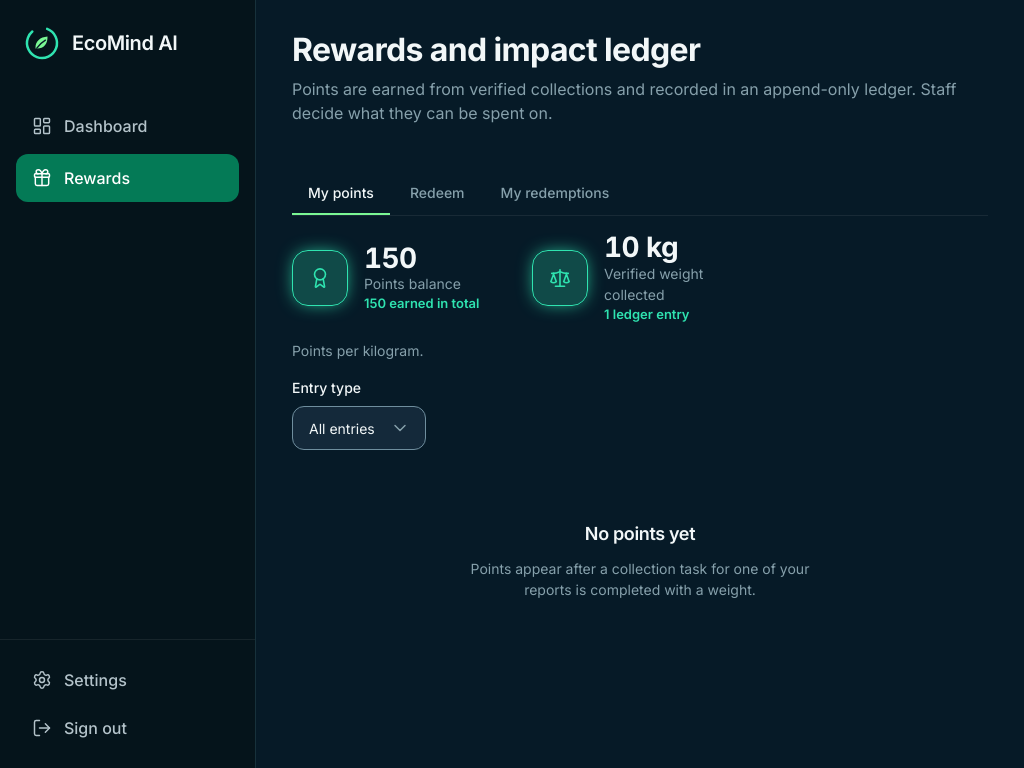
rewards catalogue (citizen) › redeems with a request id, then shows the claim code
What coordinates should you click on to do the following:
click the tab "Redeem"
I would click on:
 (437, 193)
Its box is [394,171,480,215].
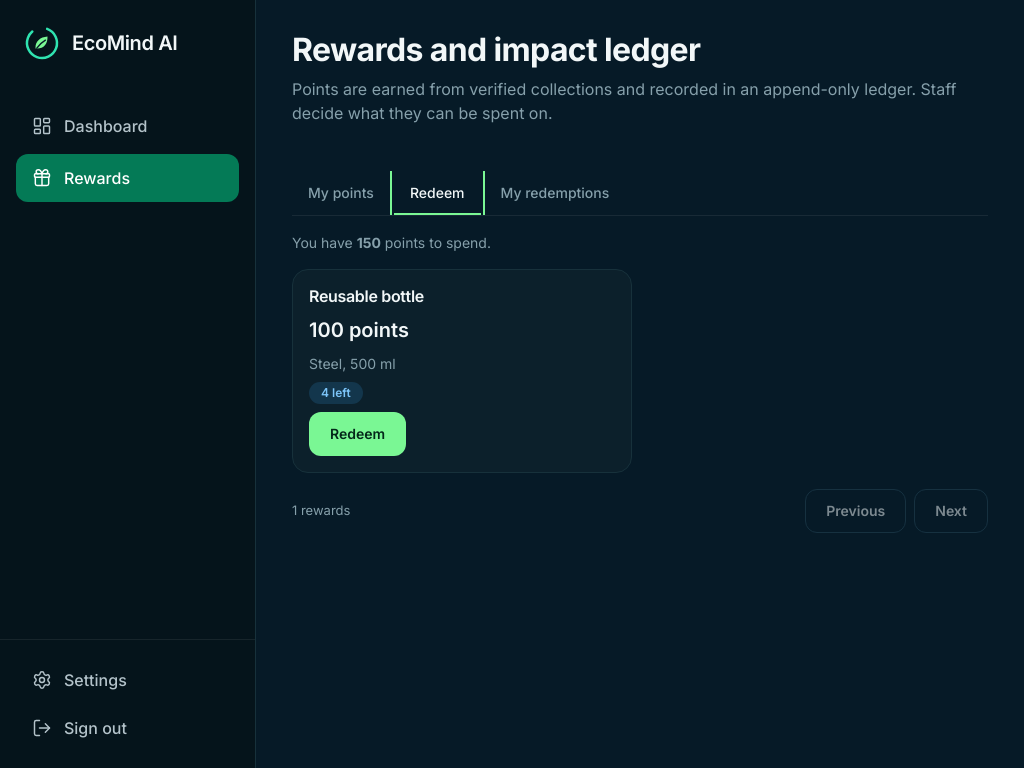
What coordinates should you click on to do the following:
click the button with aria-label "Redeem Reusable bottle"
I would click on:
 (358, 434)
Its box is [309,412,406,456].
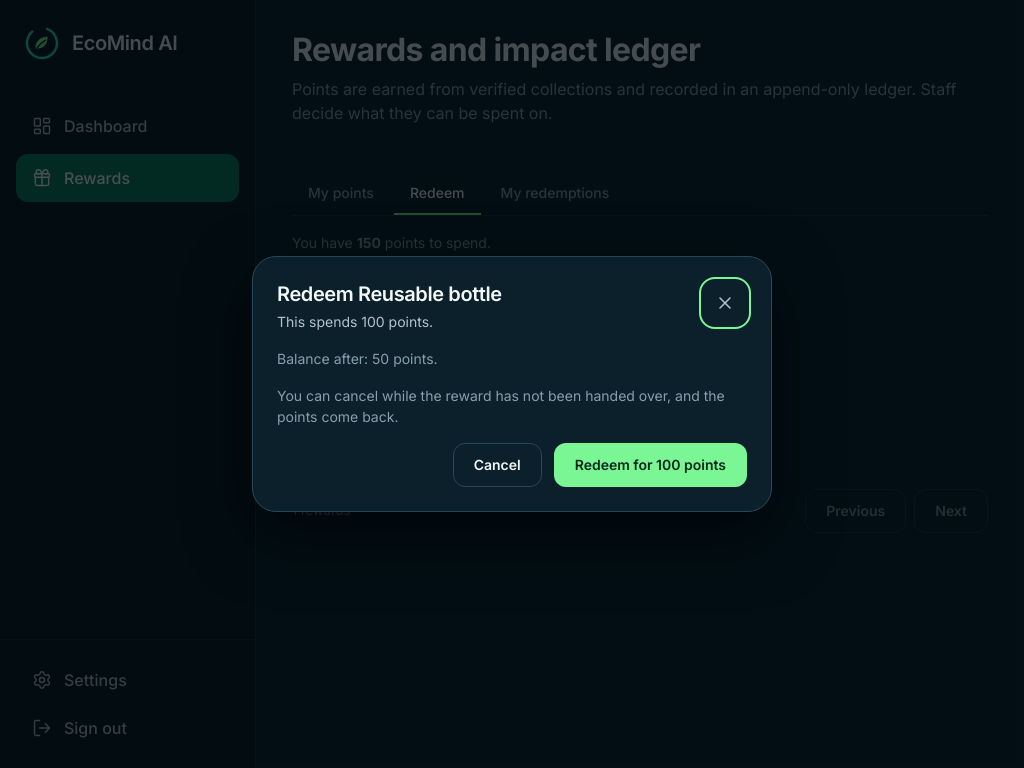
Now the text "Balance after: 50 points." is shown, box [277,350,438,367]
What coordinates should you click on to do the following:
click the button "Redeem for 100 points"
I would click on:
 (650, 465)
Its box is [554,443,747,487].
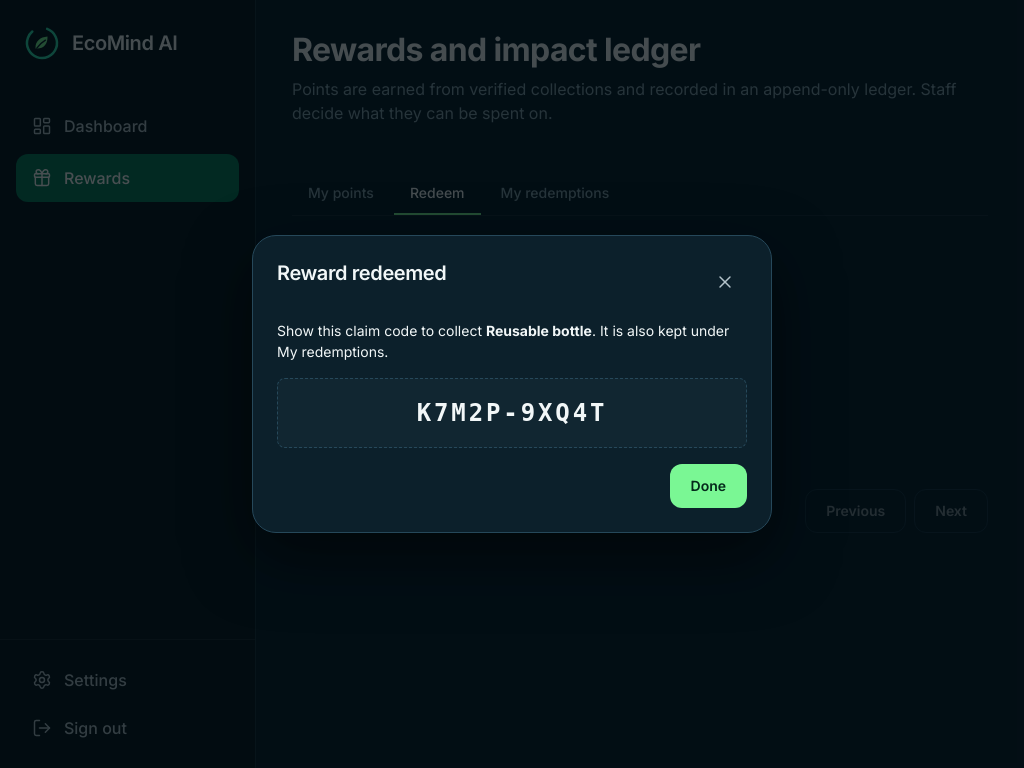
Now the text named "Claim code" reads "K7M2P-9XQ4T", box [417,399,607,427]
